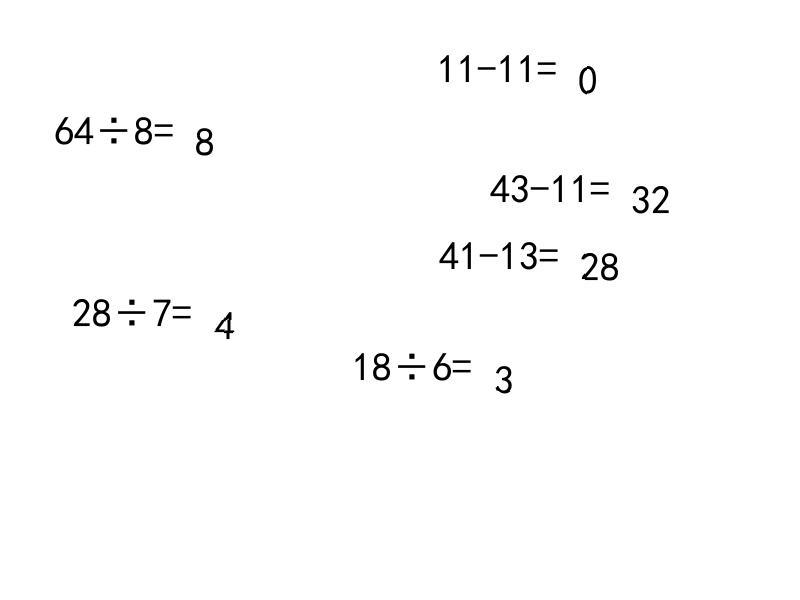-: (530, 168, 550, 197), (479, 235, 499, 264), (477, 48, 497, 76)
0: (567, 48, 587, 76)
1: (550, 168, 570, 197), (570, 168, 590, 197), (459, 235, 479, 264), (499, 235, 519, 264), (437, 48, 457, 76), (457, 48, 477, 76), (497, 48, 517, 76), (517, 48, 537, 76), (352, 346, 372, 374)
2: (640, 168, 660, 197), (569, 235, 589, 264), (72, 292, 92, 321)
3: (510, 168, 530, 197), (620, 168, 640, 197), (519, 235, 539, 264), (482, 346, 502, 374)
4: (490, 168, 510, 197), (439, 235, 459, 264), (202, 292, 222, 321), (74, 110, 94, 138)
6: (54, 110, 74, 138), (432, 346, 452, 374)
7: (152, 292, 172, 321)
8: (589, 235, 609, 264), (92, 292, 112, 321), (134, 110, 154, 138), (184, 110, 204, 138), (372, 346, 392, 374)
=: (590, 168, 610, 197), (539, 235, 559, 264), (172, 292, 192, 321), (537, 48, 557, 76), (154, 110, 174, 138), (452, 346, 472, 374)
÷: (112, 292, 152, 321), (94, 110, 134, 138), (392, 346, 432, 374)
